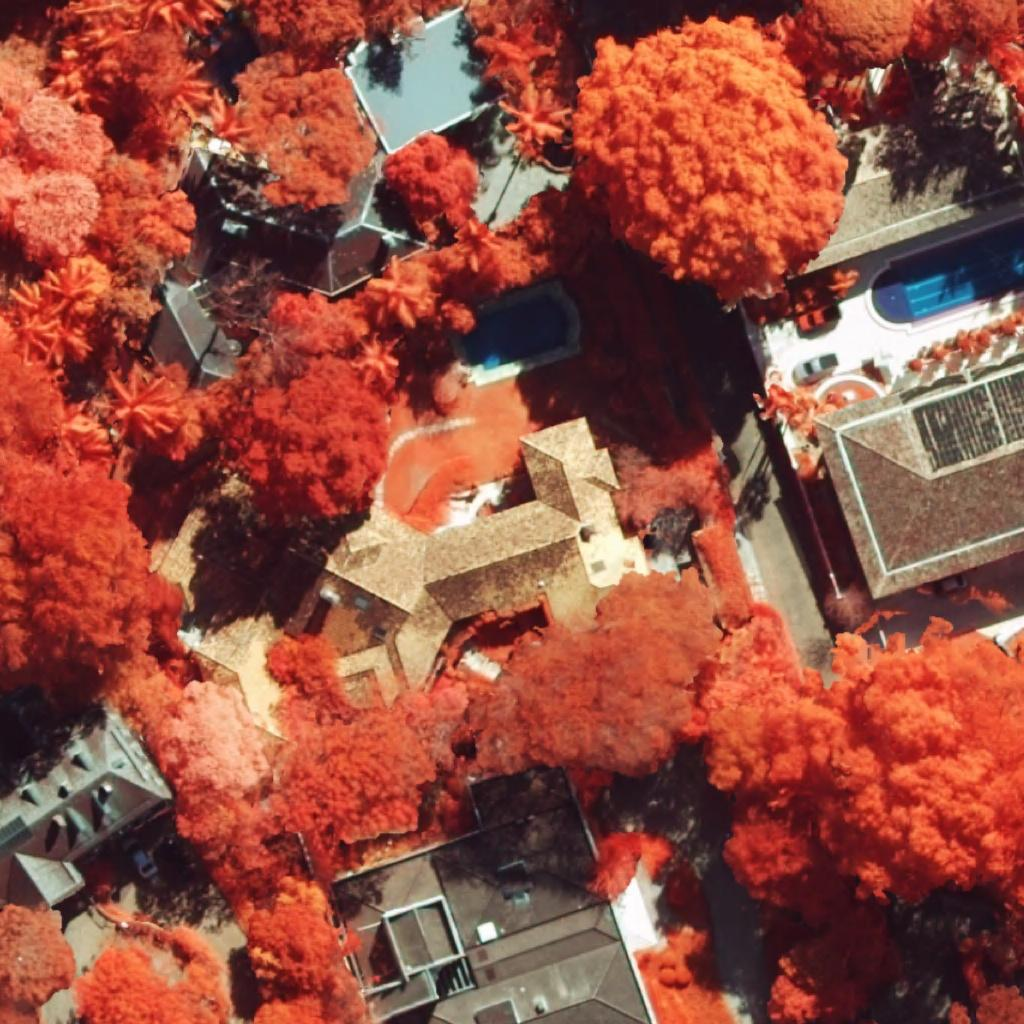pool: (871, 217, 1024, 324), (463, 293, 566, 371)
